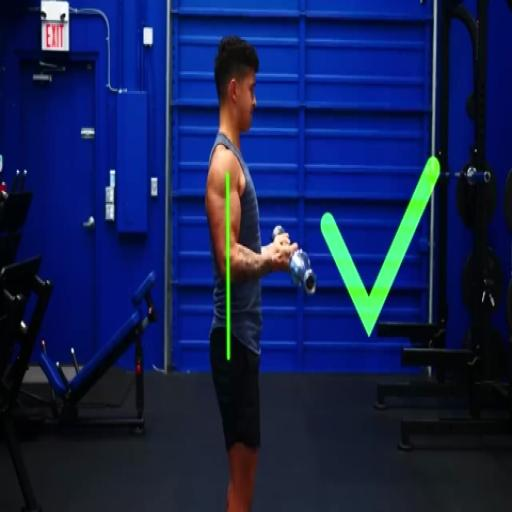exercise: (202, 34, 316, 511)
